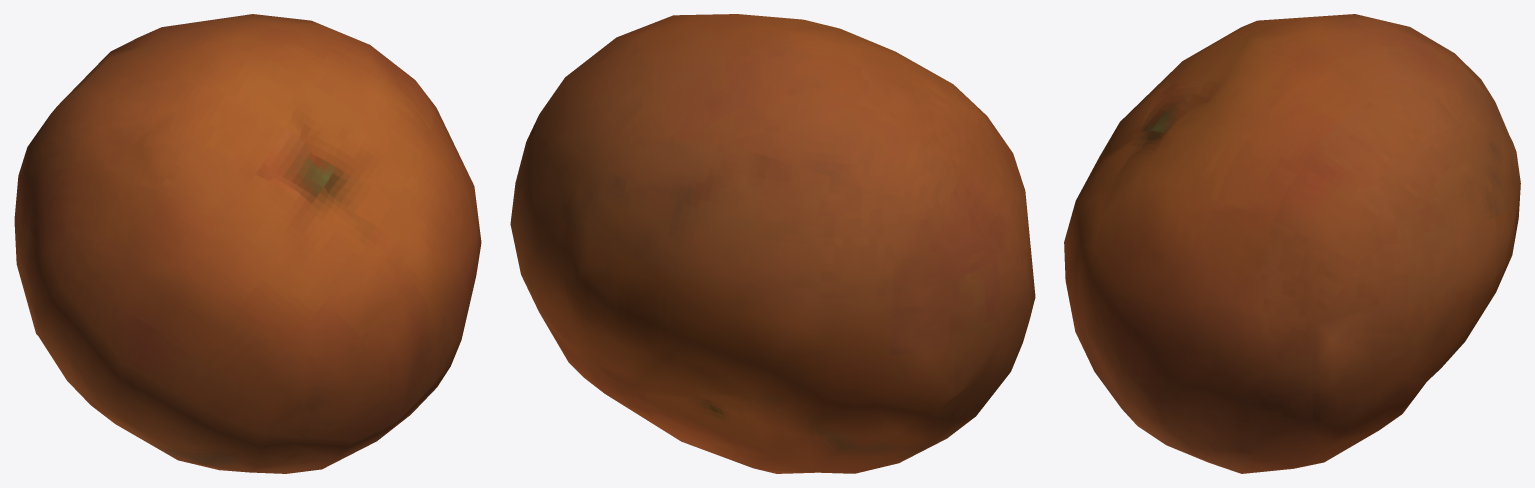
The model's file is ref_orange.glb.
3 views of the same model, side by side, from view 1: azimuth 30°, elevation 25°; view 2: azimuth 150°, elevation 25°; view 3: azimuth 270°, elevation 25° (orthographic). The views are drawn at different scales.
Parts seen in each view (by area): view 1: ref_orange; view 2: ref_orange; view 3: ref_orange.
Part boxes in pixels (bbox=[...]): ref_orange: bbox=[14, 14, 481, 473]; ref_orange: bbox=[510, 14, 1035, 473]; ref_orange: bbox=[1064, 14, 1520, 473].
Size of the model in its own units: 1 by 0.935 by 0.9278.
1 material, 1 textured.
